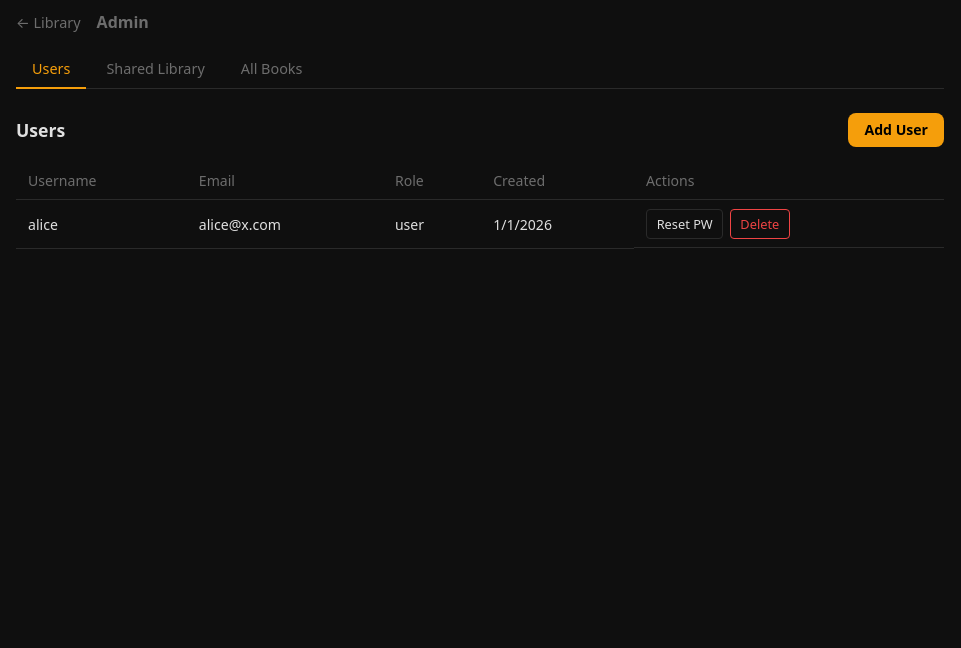
Test: AdminScreen — Users tab › shows Add User form when button clicked
Expected: the text "alice" is shown, [16,200,187,248]
Click the button "Add User" at (896, 130), box [848,113,944,147]
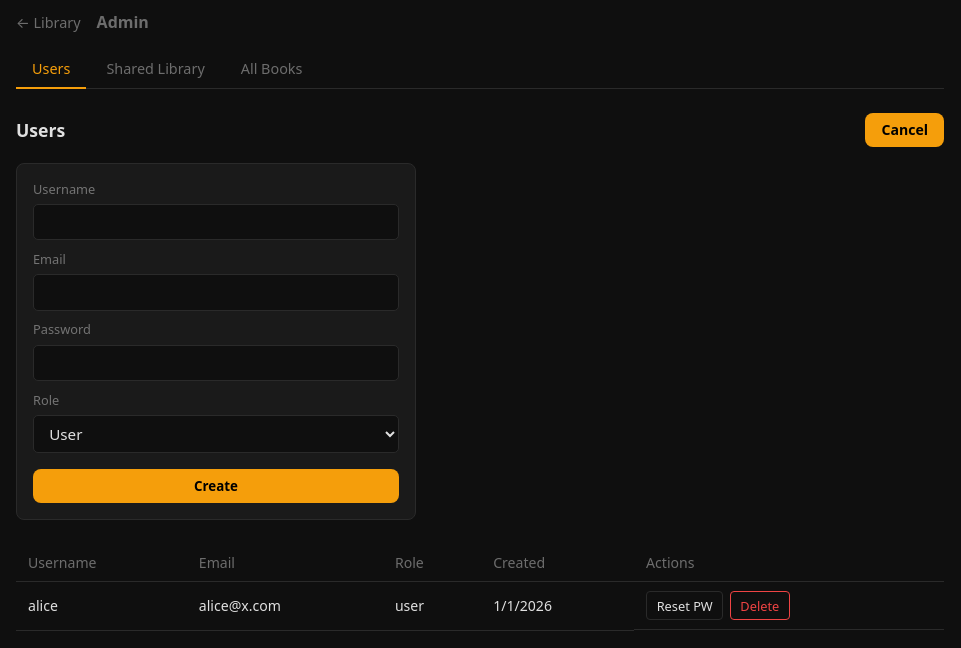
Expected: the field labelled "Username" is shown, [33,204,399,240]
